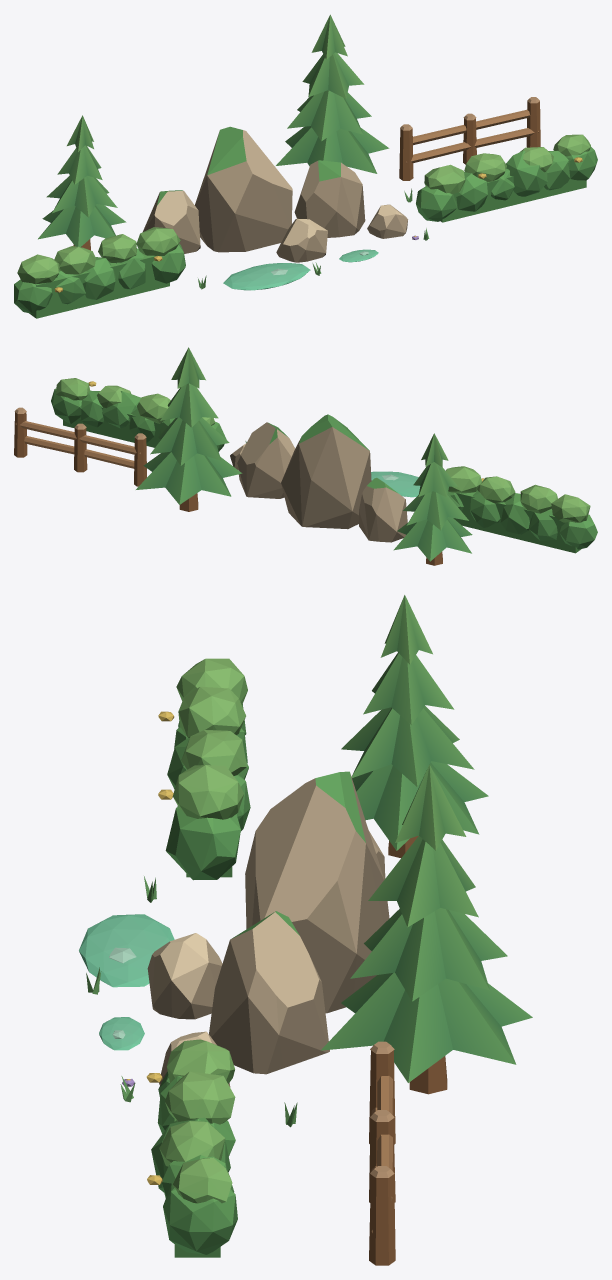
The model's file is ranch_border_chunk_f.fbx.
3 views of the same model, one above another, from view 1: azimuth 30°, elevation 25°; view 2: azimuth 150°, elevation 25°; view 3: azimuth 270°, elevation 25° (orthographic). The views are drawn at different scales.
Visible parts, largest first — view 1: ranch_border_chunk_f; view 2: ranch_border_chunk_f; view 3: ranch_border_chunk_f.
Boxes of the visible parts, <box> form: ranch_border_chunk_f: <box>14,14,597,318</box>; ranch_border_chunk_f: <box>14,347,597,565</box>; ranch_border_chunk_f: <box>79,595,532,1265</box>.
Size of the model in its own units: 54.46 by 15.54 by 19.7.
